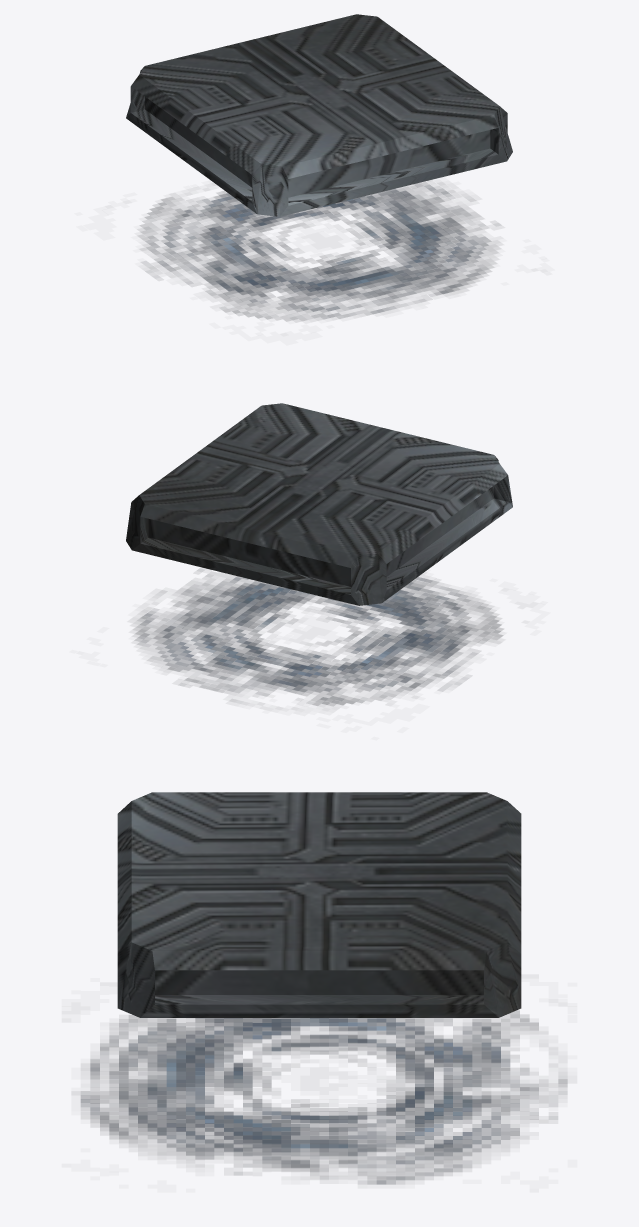
Rendered from platformdefault5.glb.
3 renders of one model, top to bottom at view 1: azimuth 30°, elevation 25°; view 2: azimuth 150°, elevation 25°; view 3: azimuth 270°, elevation 25°, orthographic. The views are drawn at different scales.
Visible parts, largest first — view 1: box; view 2: box; view 3: box.
Boxes of the visible parts, x1,y1,x2,y2 form: box: [126, 14, 512, 320]; box: [126, 403, 512, 705]; box: [80, 792, 567, 1184].
Size of the model in its own units: 6.81 by 2.61 by 6.81.
2 materials, 2 textured.
